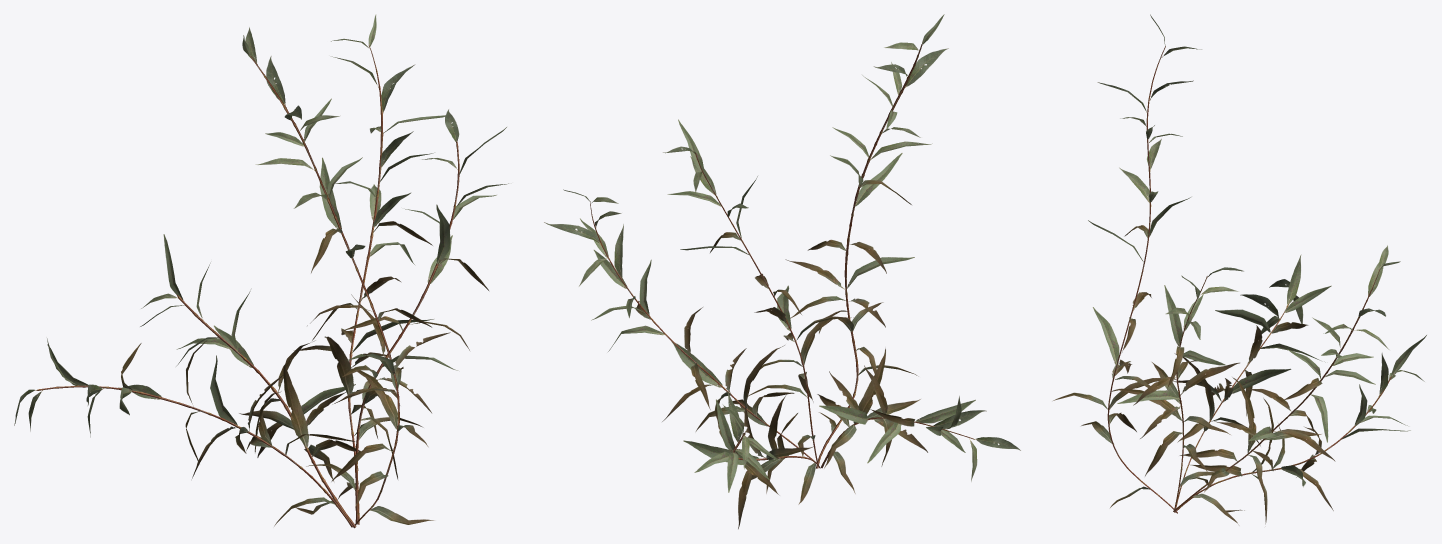
File: shrub_02_a_LOD1.glb
The picture shows the model from 3 angles, left to right: view 1: azimuth 30°, elevation 25°; view 2: azimuth 150°, elevation 25°; view 3: azimuth 270°, elevation 25°; orthographic projection. The views are drawn at different scales.
Visible parts, largest first — view 1: shrub_02_a_LOD1.001; view 2: shrub_02_a_LOD1.001; view 3: shrub_02_a_LOD1.001.
Part boxes in pixels (x1,y1,x2,y2): shrub_02_a_LOD1.001: (14, 15, 508, 528); shrub_02_a_LOD1.001: (544, 14, 1020, 529); shrub_02_a_LOD1.001: (1053, 14, 1426, 524).
Size of the model in its own units: 1.27 by 1.39 by 1.05.
1 material, 1 textured.
